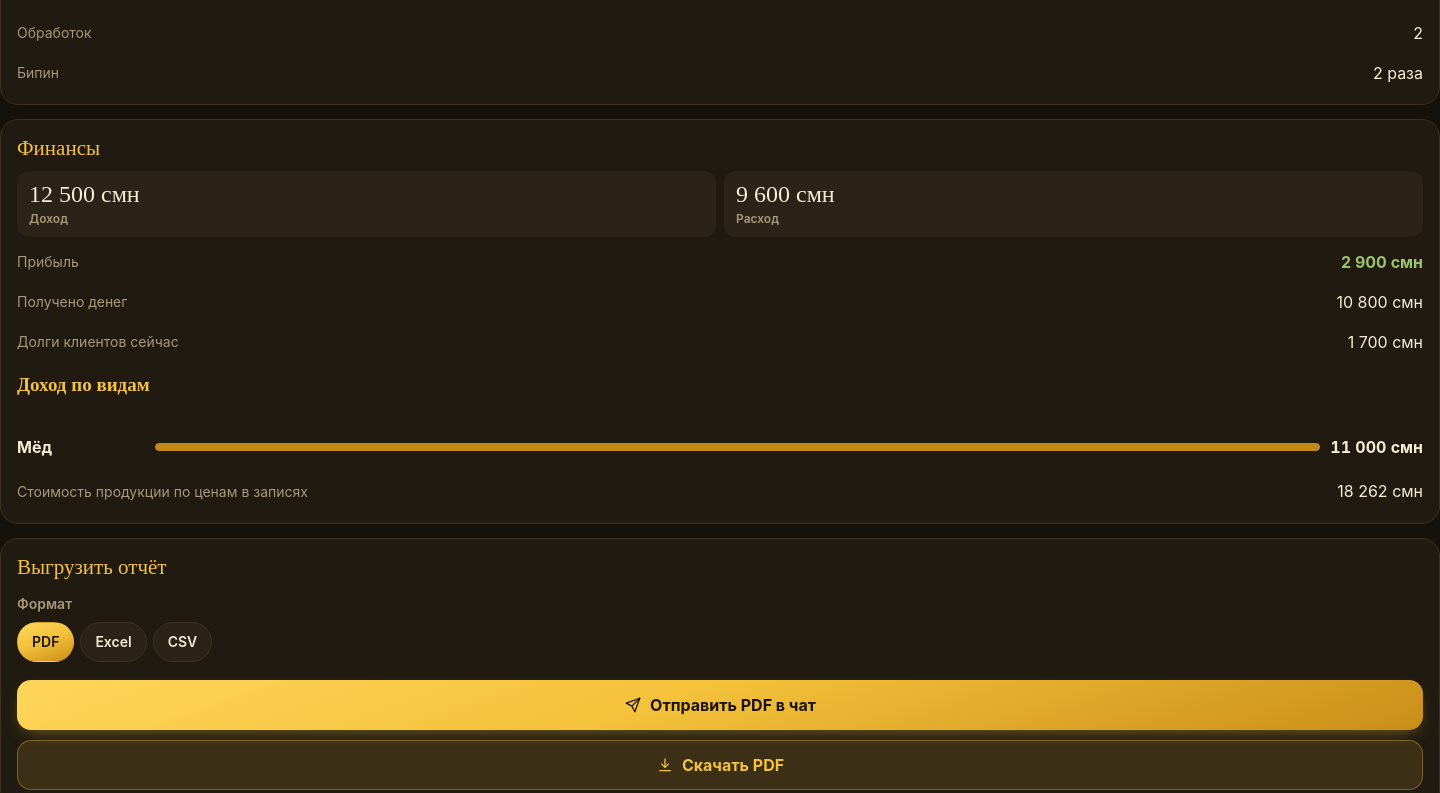
Scenario: Yearly report › sends the chosen format to the Telegram chat
This screenshot has width=1440, height=793.
(page scrolled)
Step 1. Click the radio button labelled "Excel" → (114, 642), box [80, 622, 147, 662]
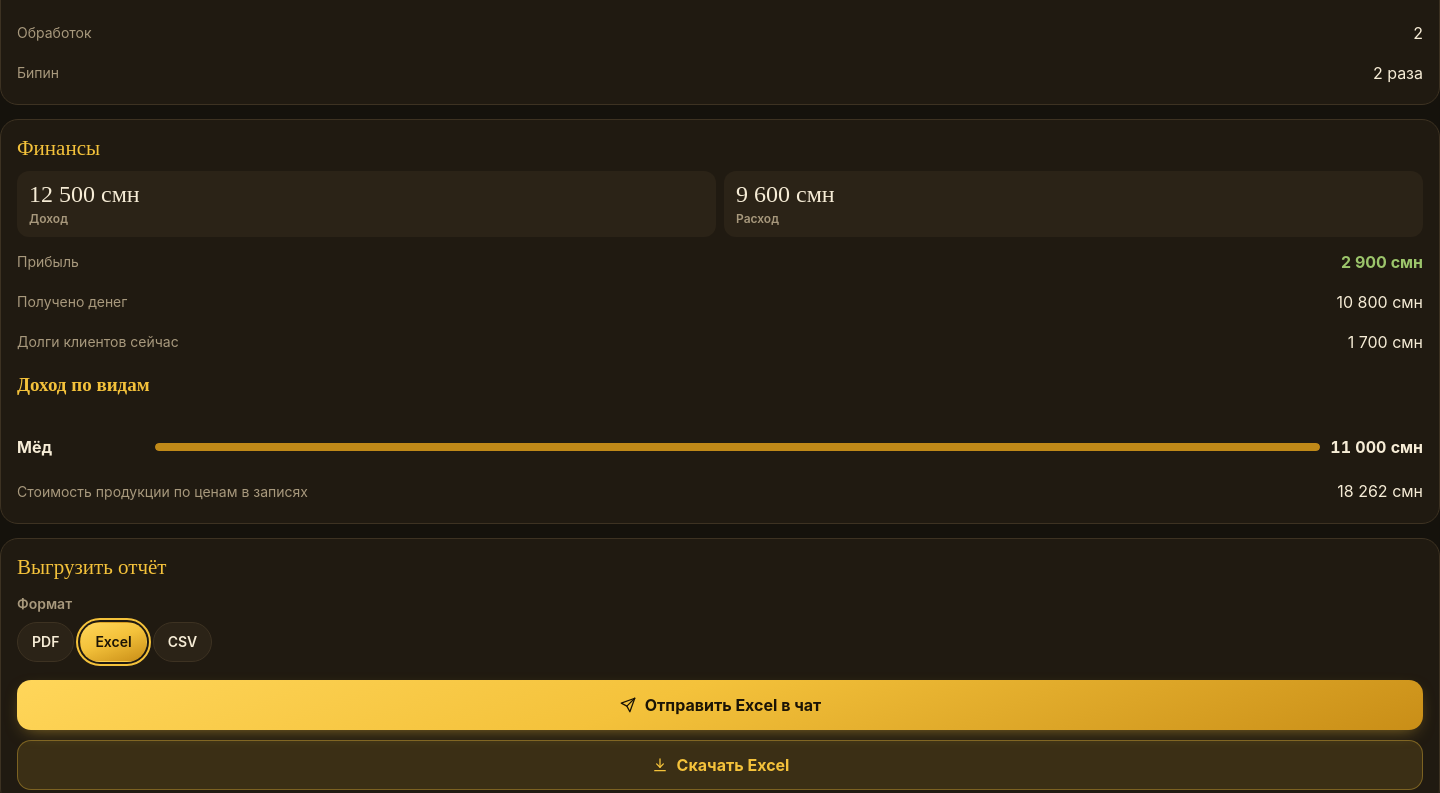
Step 2. Click the button "Отправить Excel в чат" → (720, 705), box [17, 680, 1423, 730]
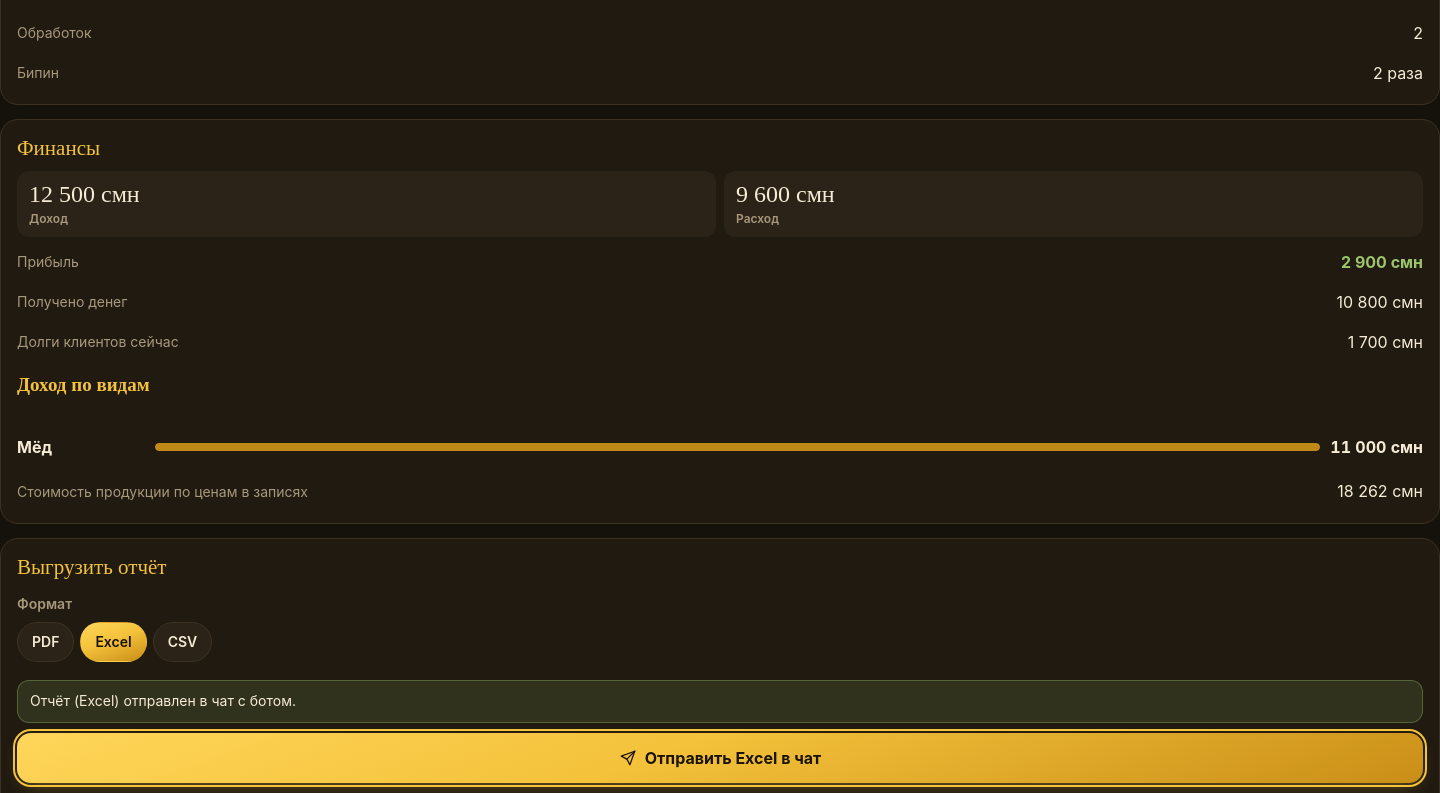
Expected: the text "Отчёт (Excel) отправлен в чат с ботом." is shown, [17, 680, 1423, 723]
